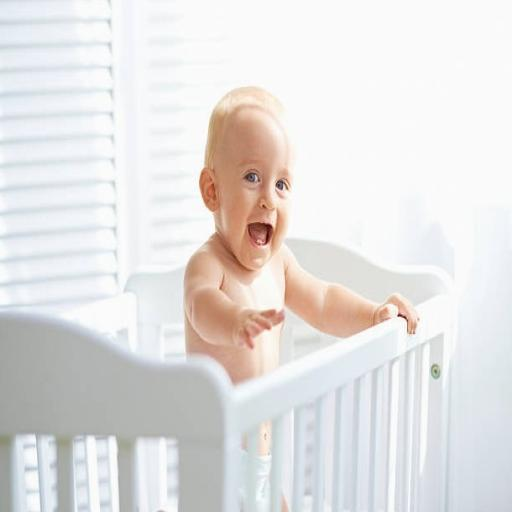baby: (184, 88, 417, 383)
crib: (0, 240, 454, 511)
